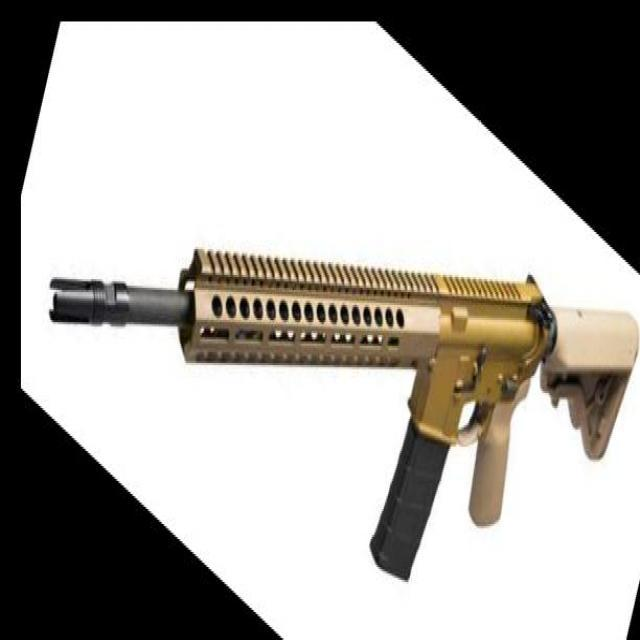weapon: (47, 247, 640, 583)
